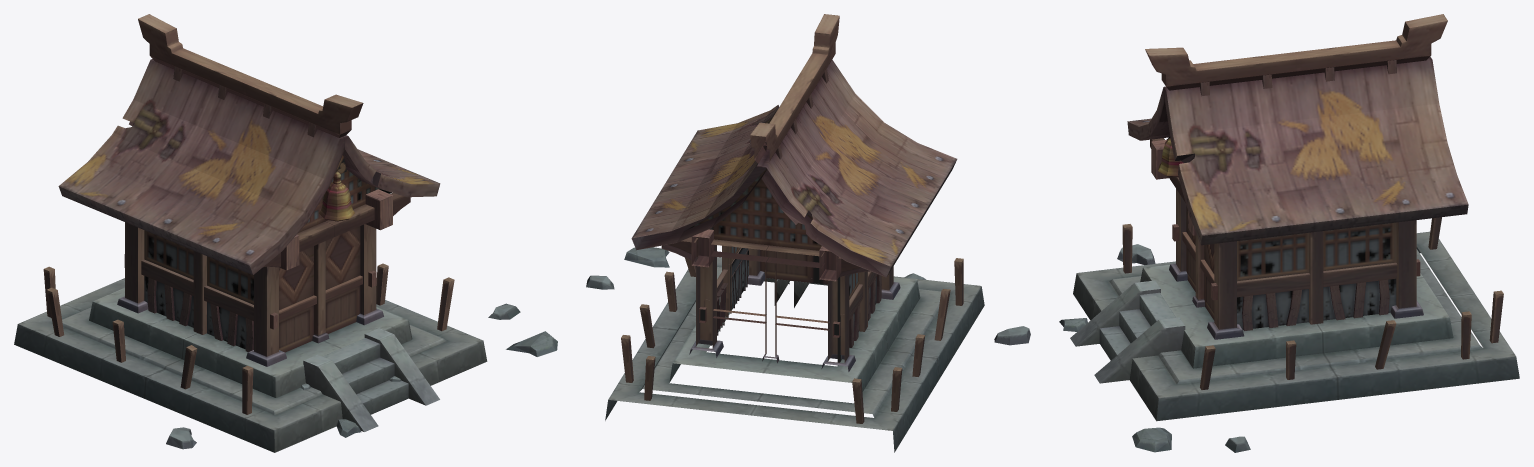
Rendered from Area_02_3.fbx.
3 views of the same model, side by side, from view 1: azimuth 30°, elevation 25°; view 2: azimuth 150°, elevation 25°; view 3: azimuth 270°, elevation 25° (orthographic). The views are drawn at different scales.
Parts seen in each view (by area): view 1: Area_02_3; view 2: Area_02_3; view 3: Area_02_3.
Boxes of the visible parts, <box> form: Area_02_3: <box>14,14,557,452</box>; Area_02_3: <box>586,14,1030,452</box>; Area_02_3: <box>1059,14,1519,452</box>.
Size of the model in its own units: 1682 by 1148 by 1590.
